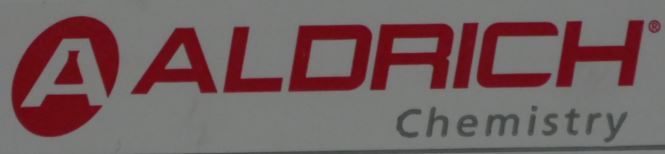SigmaAldrich: (10, 15, 662, 146)
